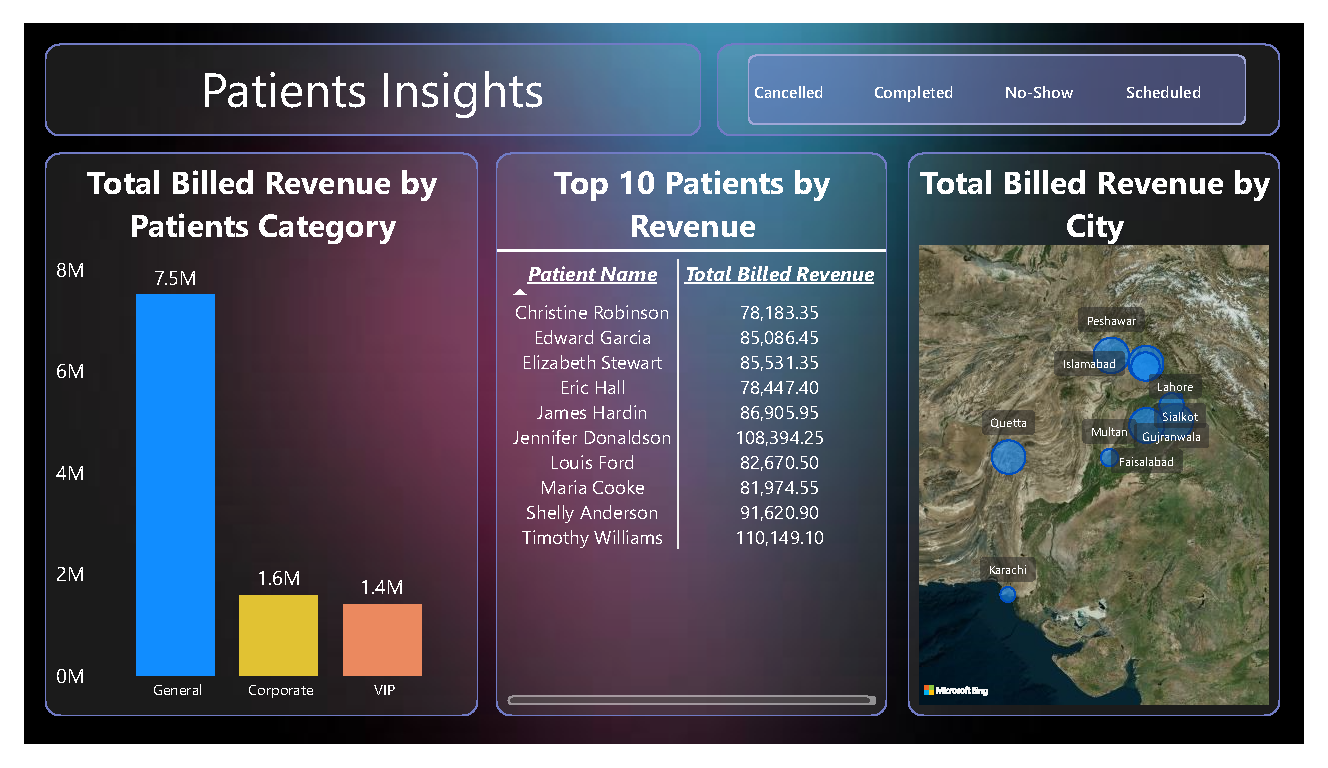

This screenshot's page, from the dashboard's own definition file:
{"tool":"powerbi","page":{"name":"Patients Insights","canvas":[1280,720],"ordinal":1},"visuals":[{"type":"textbox","box":[21.3,19.8,656.2,92.1],"z":0},{"type":"columnChart","title":"Total Billed Revenue by Patients Category","fields":{"Category":["public patients.patient_category"],"Y":["Measure Table.Total Billed Revenue"]},"box":[21.3,129,432.3,562.7],"z":1000},{"type":"cardVisual","fields":{"Rows":["public appointments.Appointment Status"]},"box":[693.1,19.8,562.7,92.1],"z":2000},{"type":"tableEx","title":"Top 10 Patients by Revenue","fields":{"Values":["public patients.Patient Name","Measure Table.Total Billed Revenue"]},"box":[472,129,391.2,562.7],"z":3000},{"type":"map","title":"Total Billed Revenue by City","fields":{"Category":["public patients.city"],"Size":["Measure Table.Total Billed Revenue"]},"box":[884.4,129,371.3,562.7],"z":4000}]}

Visuals, with their boxes in screenshot pixels (x1, y1, x2, y2), scaled from the page's 1280x720 canvas onto the 1328x768 screenshot:
textbox: [22,21,703,119]
"Total Billed Revenue by Patients Category" columnChart: [22,138,471,738]
cardVisual - public appointments.Appointment Status: [719,21,1303,119]
"Top 10 Patients by Revenue" tableEx: [490,138,896,738]
"Total Billed Revenue by City" map: [918,138,1303,738]
